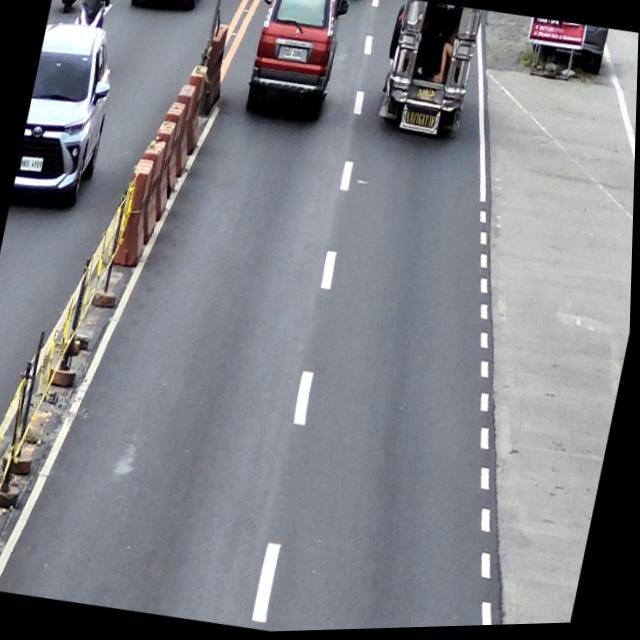Car: (239, 0, 352, 128)
Jeep: (372, 0, 484, 145)
License-Plate: (415, 88, 438, 104), (282, 47, 304, 62)
